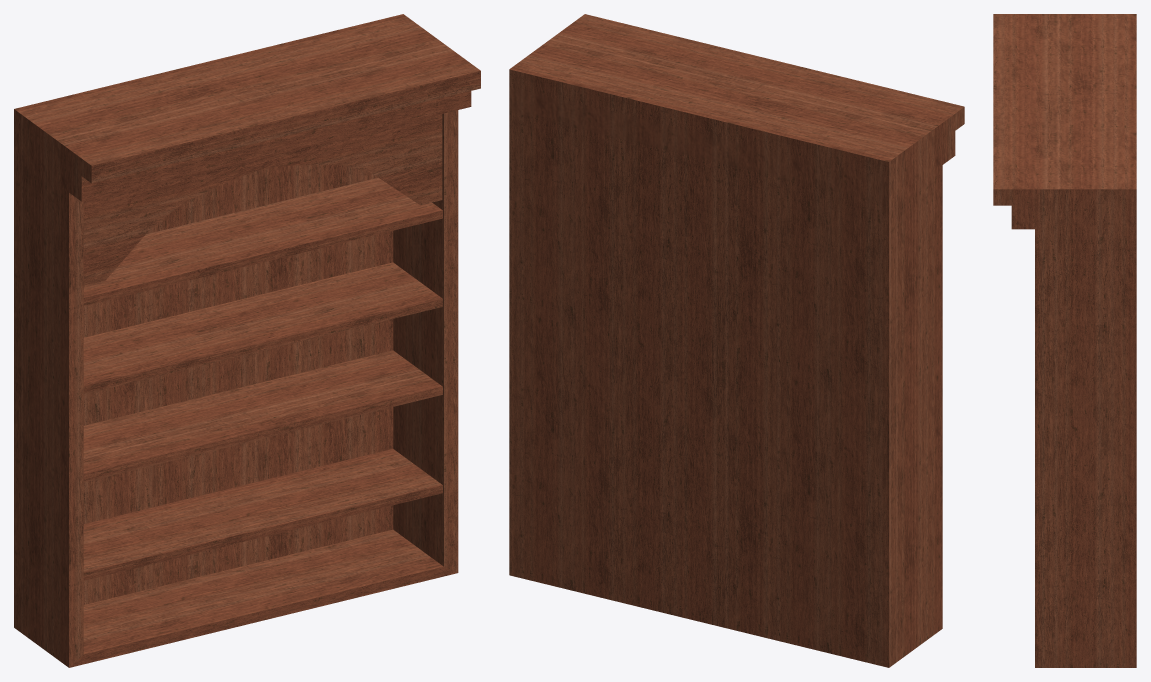
The model's file is SM_BookCase_d_001.fbx.
3 views of the same model, side by side, from view 1: azimuth 30°, elevation 25°; view 2: azimuth 150°, elevation 25°; view 3: azimuth 270°, elevation 25° (orthographic). The views are drawn at different scales.
Visible parts, largest first — view 1: SM_BookCase_d_001; view 2: SM_BookCase_d_001; view 3: SM_BookCase_d_001.
Boxes of the visible parts, x1,y1,x2,y2 form: SM_BookCase_d_001: (14,14,480,667); SM_BookCase_d_001: (509,14,964,667); SM_BookCase_d_001: (993,14,1136,667).
Size of the model in its own units: 147 by 187 by 50.79.
